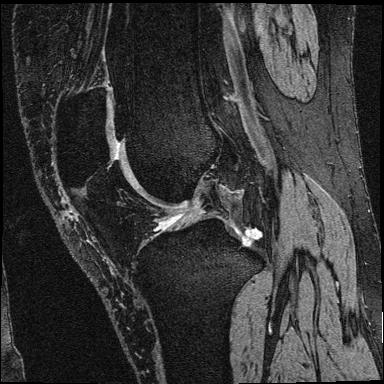SagKneeJointArea: (54, 86, 266, 291)
